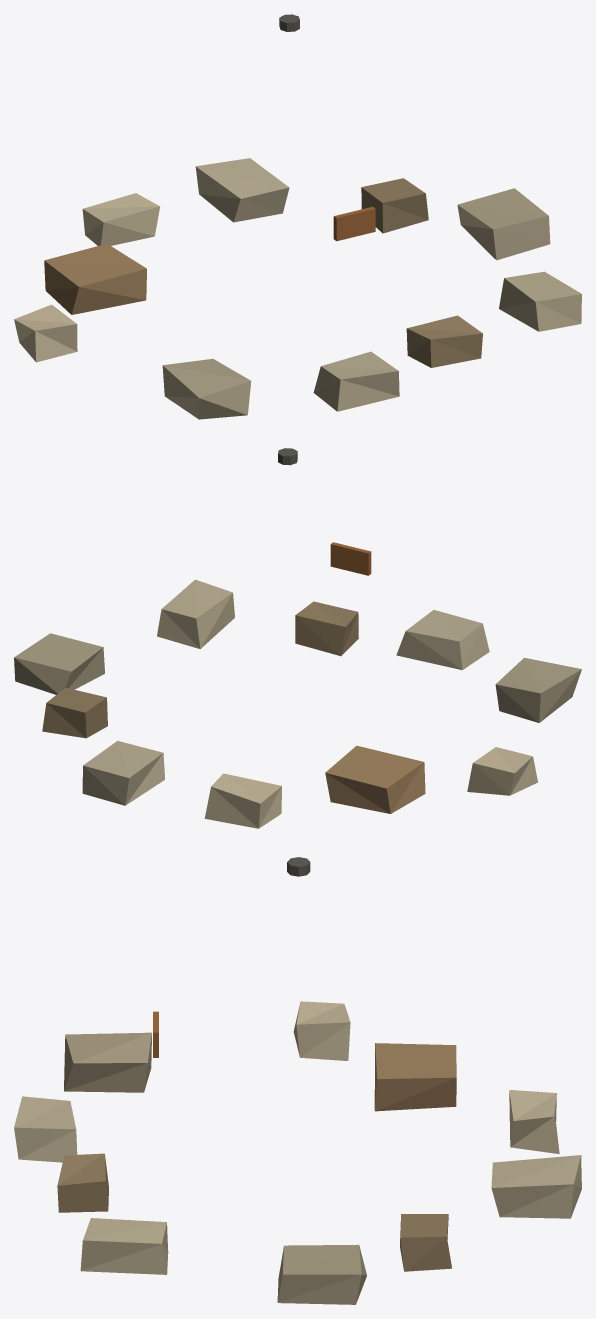
File: dam_survey_benchmark_detail1.glb
3 renders of one model, top to bottom at view 1: azimuth 30°, elevation 25°; view 2: azimuth 150°, elevation 25°; view 3: azimuth 270°, elevation 25°, orthographic. The views are drawn at different scales.
Visible parts, largest first — view 1: dam_survey_benchmark_detail1; view 2: dam_survey_benchmark_detail1; view 3: dam_survey_benchmark_detail1.
Boxes of the visible parts, x1,y1,x2,y2 form: dam_survey_benchmark_detail1: (14, 14, 581, 419); dam_survey_benchmark_detail1: (14, 448, 581, 828); dam_survey_benchmark_detail1: (14, 857, 581, 1304).
Size of the model in its own units: 4.17 by 2.21 by 3.66.
